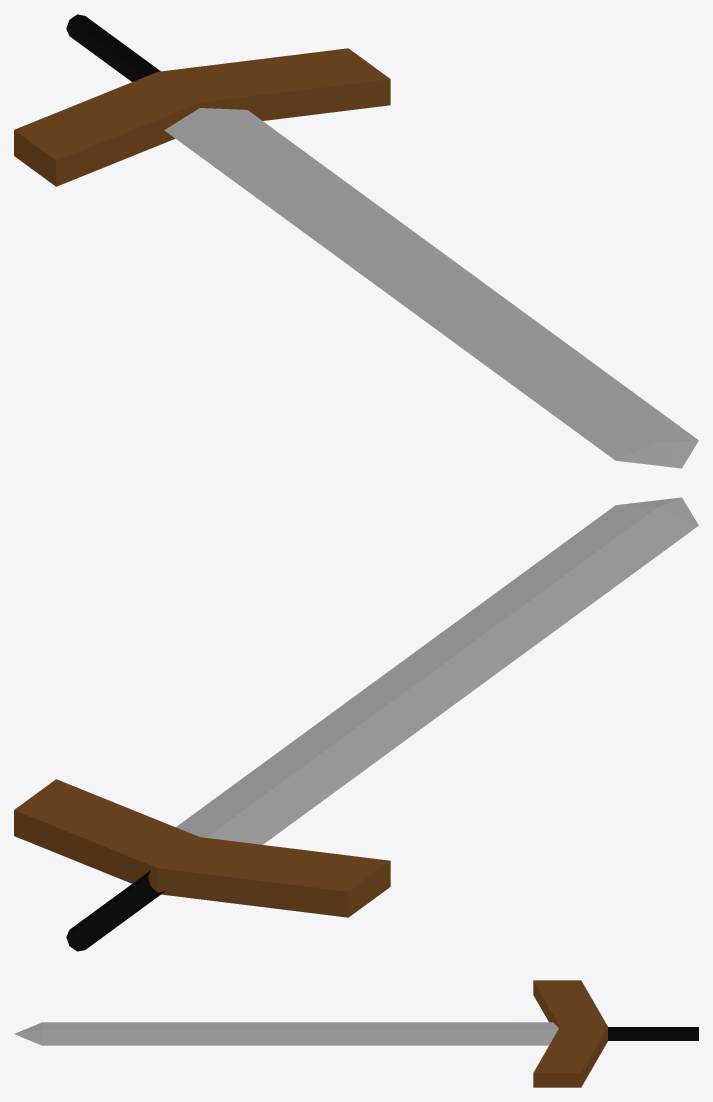
The model's file is test_sword.glb.
3 views of the same model, one above another, from view 1: azimuth 30°, elevation 25°; view 2: azimuth 150°, elevation 25°; view 3: azimuth 270°, elevation 25° (orthographic). The views are drawn at different scales.
Visible parts, largest first — view 1: Blade; view 2: Blade; view 3: Blade.
Boxes of the visible parts, x1,y1,x2,y2 form: Blade: (14,14,698,468); Blade: (14,497,698,951); Blade: (14,980,698,1087).
Bounding box in the file's own units: 0.7927 × 0.0589 × 2.48.
Materials: 3 (3 with a texture image).
